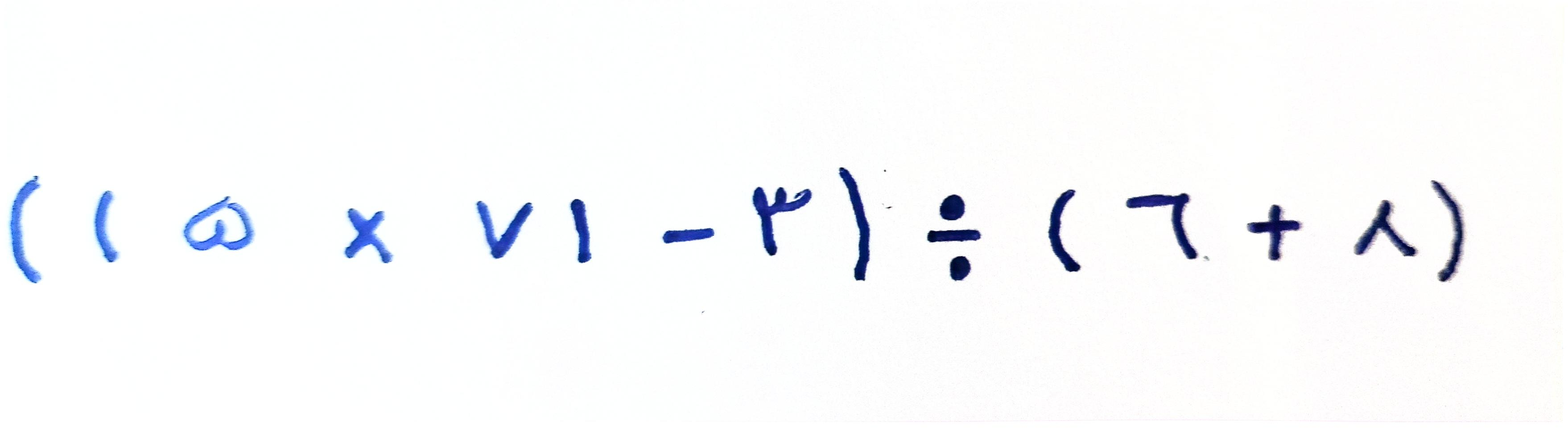character: (926, 192, 982, 283), (1126, 192, 1196, 261), (184, 194, 256, 252), (752, 187, 811, 256), (1355, 199, 1417, 261), (8, 172, 42, 283), (838, 169, 871, 279), (476, 199, 534, 259), (1431, 181, 1464, 283), (1246, 204, 1300, 263), (345, 206, 394, 266), (1047, 189, 1082, 273), (95, 187, 116, 263), (570, 197, 591, 261), (662, 226, 717, 246)
